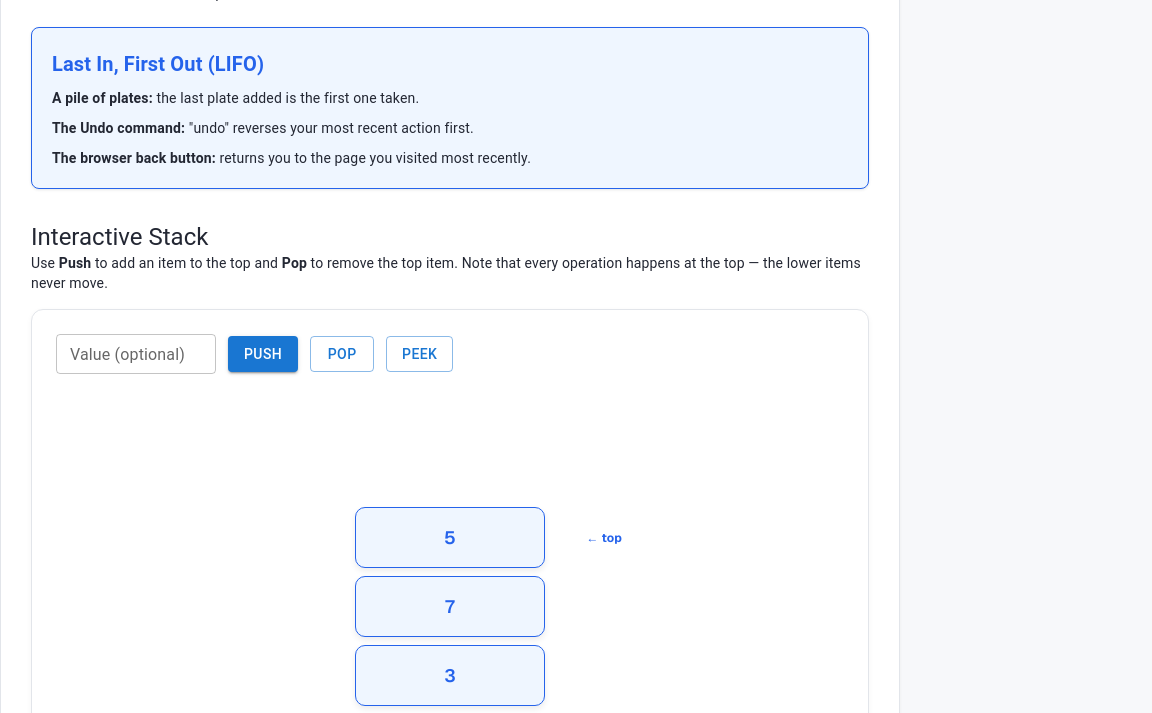
Test case: StackConcept › push adds a typed value to the top
The image size is (1152, 713).
(page scrolled)
Type "42" into the field at x=136, y=354, box top-left (56, 334), bottom-right (216, 374)
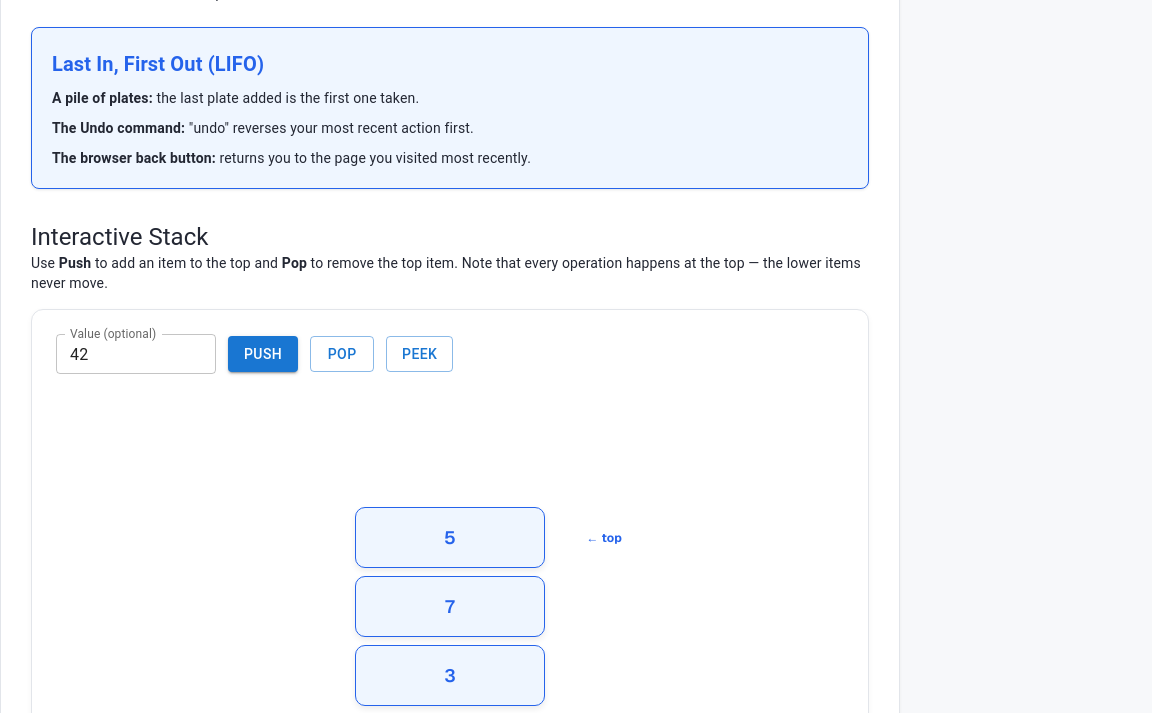
Click the button "Push" at x=263, y=354, box top-left (228, 336), bottom-right (298, 372)
(page scrolled)
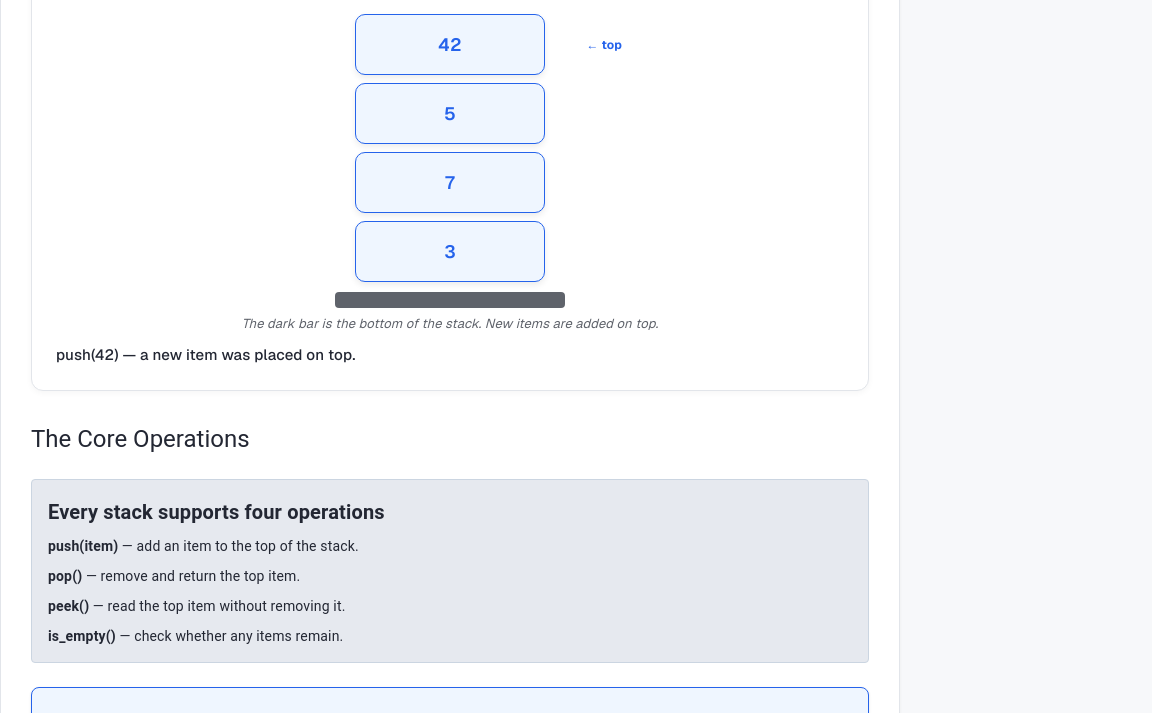
Expected: the number of elements with class "stack-item" is 4, top-left (355, 14), bottom-right (545, 75); top-left (355, 83), bottom-right (545, 144); top-left (355, 152), bottom-right (545, 213); top-left (355, 221), bottom-right (545, 282)
Expected: the text "42" is shown, top-left (438, 33), bottom-right (462, 56)
Expected: the text "push(42) — a new item was placed on top." is shown, top-left (56, 344), bottom-right (356, 364)
